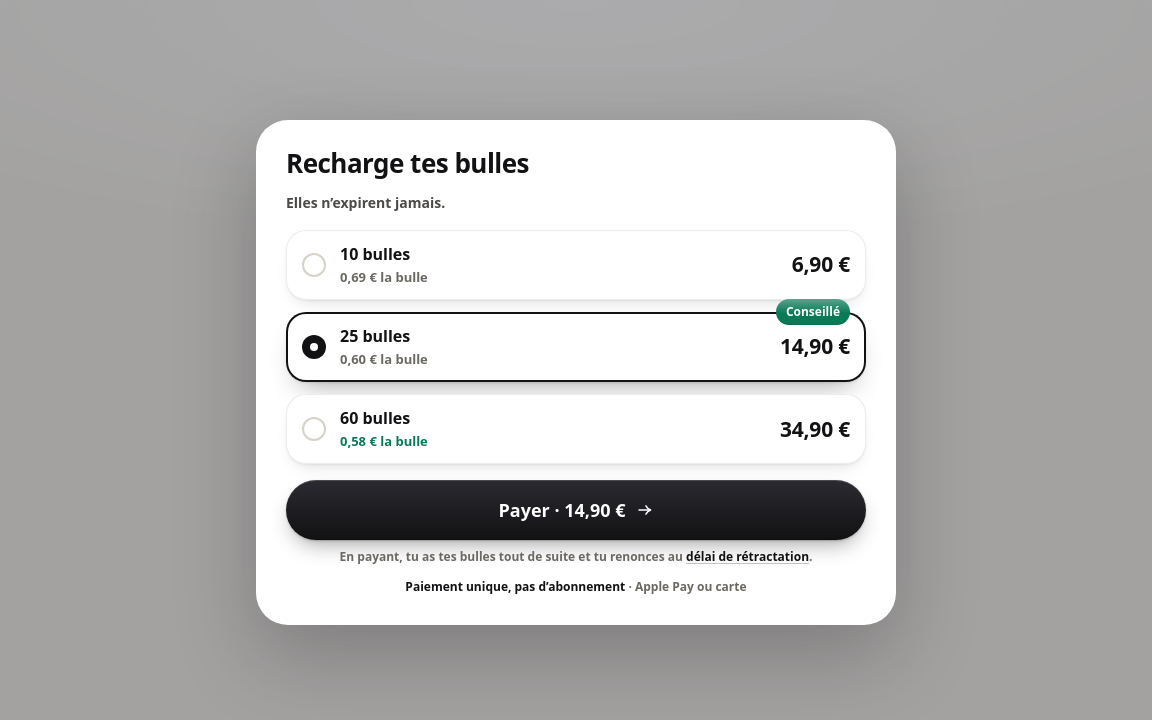
la recharge › sans paiement branché : « Le paiement arrive très vite » ; une autre erreur : réessayer
The width and height of the screenshot is (1152, 720).
Click the button "Payer · 14,90 €": (576, 510) [286,480,866,540]
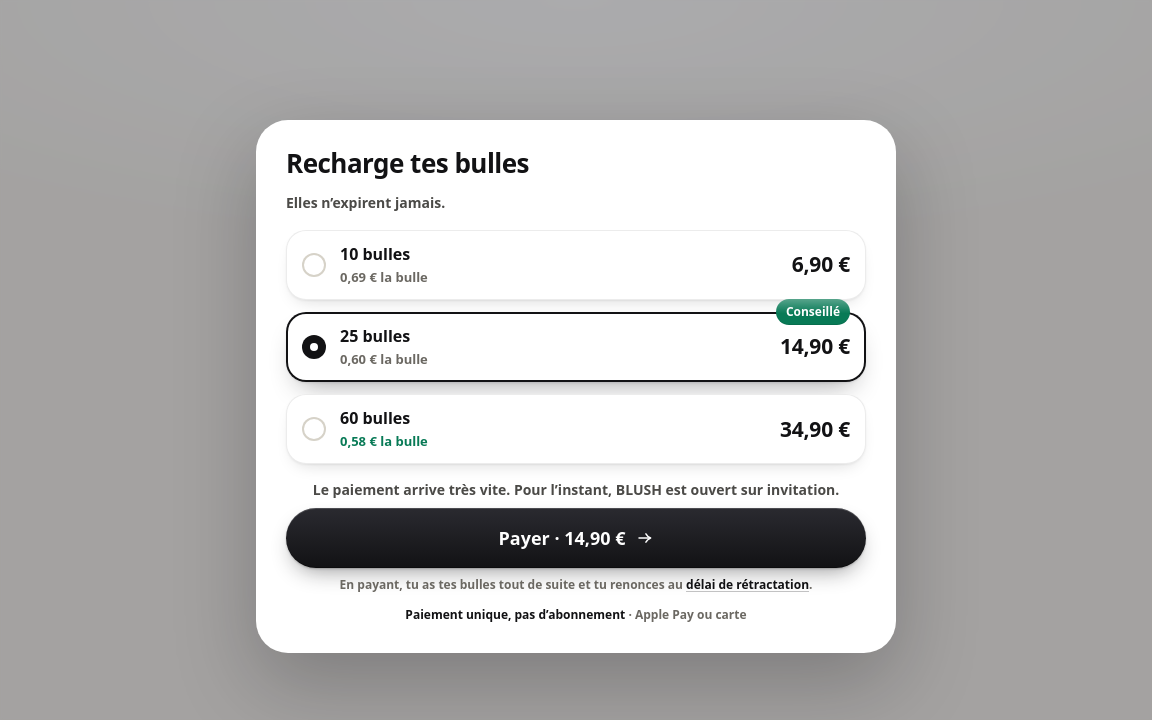
Result: the text "Le paiement arrive très vite. Pour l’instant, BLUSH est ouvert sur invitation." is shown at [286,480,866,500]
Click the button "Payer · 14,90 €": (576, 538) [286,508,866,568]
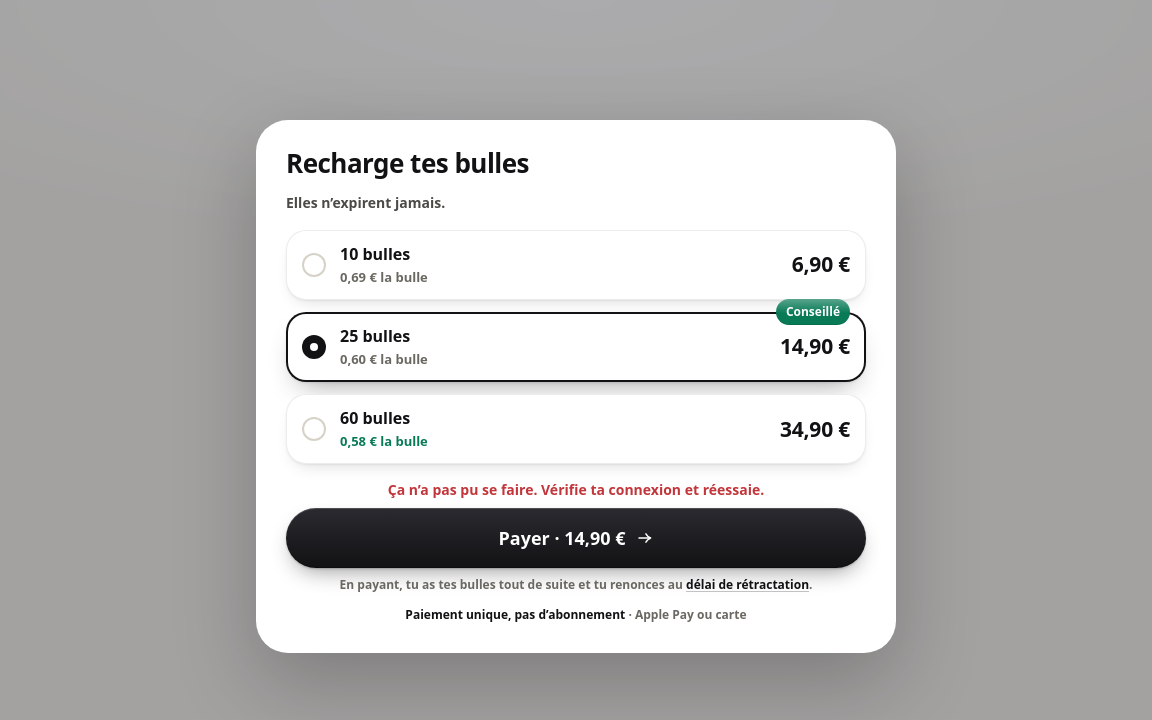
Result: the message reads "Ça n’a pas pu se faire. Vérifie ta connexion et réessaie." at [388,480,764,499]
